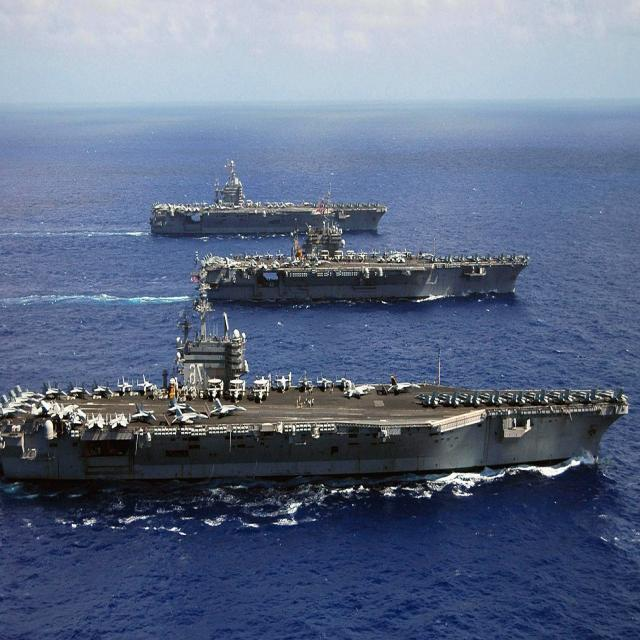navalvessels: (0, 255, 633, 505), (198, 223, 535, 292), (142, 167, 392, 235)
